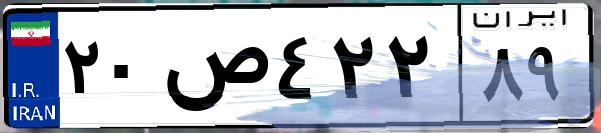0: (110, 28, 158, 98)
2: (385, 28, 445, 110), (330, 28, 385, 110), (57, 26, 110, 100)
4: (270, 28, 330, 110)
8: (475, 38, 525, 113)
9: (525, 38, 570, 115)
ص: (158, 20, 270, 120)
